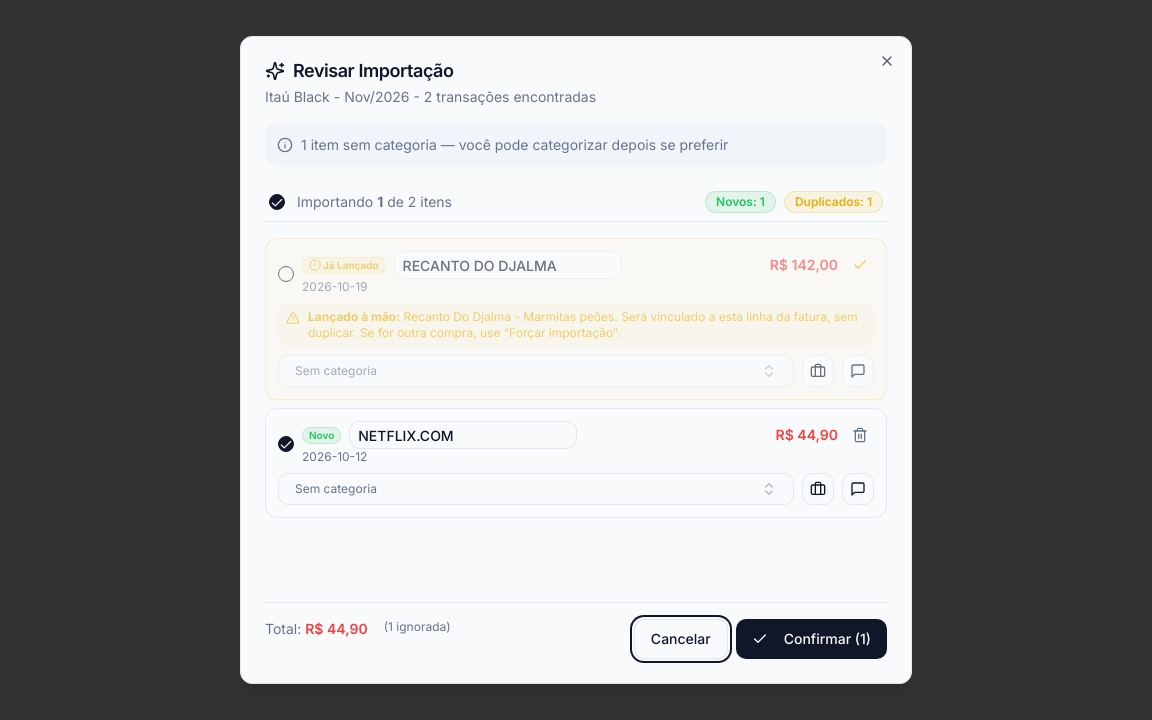
InvoiceReviewModal — lançamento feito à mão › restaurar depois de ignorar volta a ser lançado à mão, desmarcado — não 'Novo'
Expected: the element showing "RECANTO DO DJALMA" is shown, left=265, top=238, right=887, bottom=400
Click the checkbox next to "2026-10-19" at (286, 274), box left=278, top=266, right=294, bottom=282
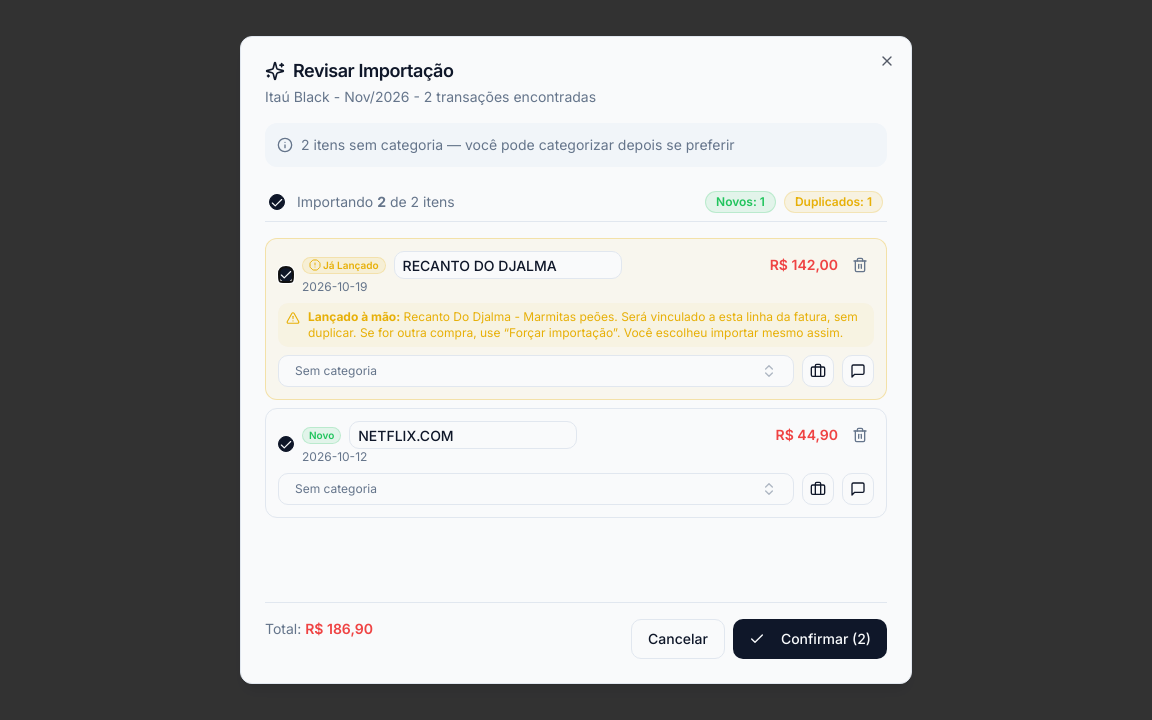
Click the button without text next to "142,00" at (860, 265), box left=846, top=251, right=874, bottom=279
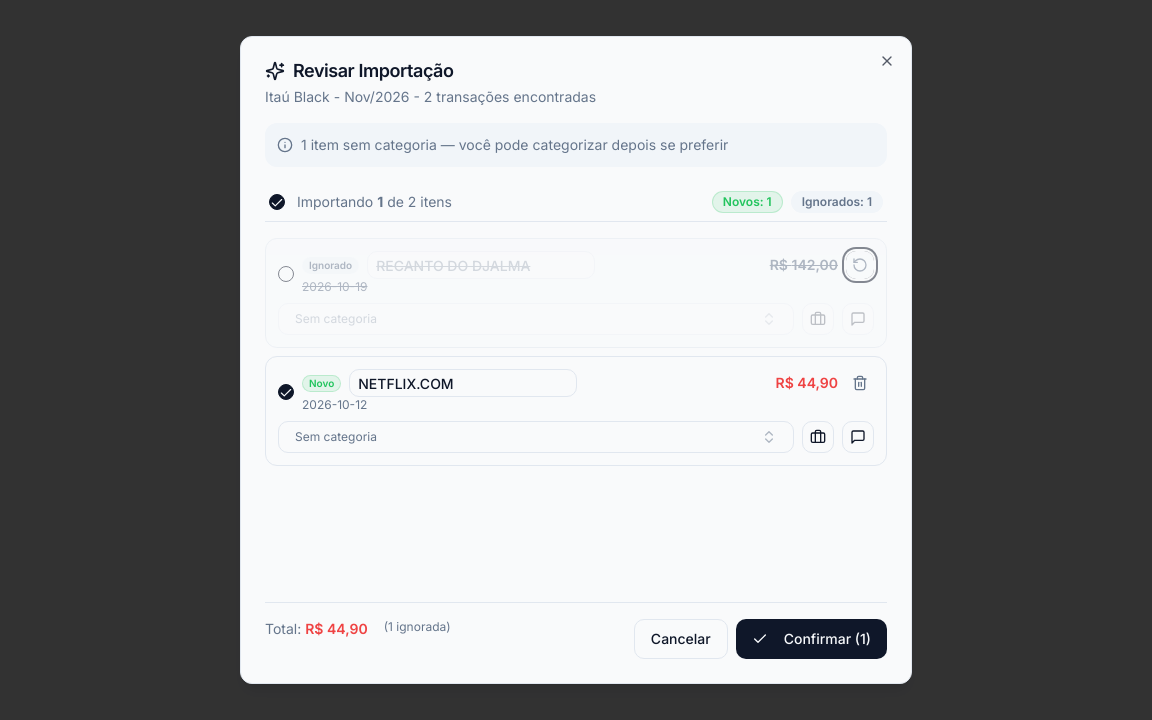
Click the button without text next to "142,00" at (860, 265), box left=846, top=251, right=874, bottom=279
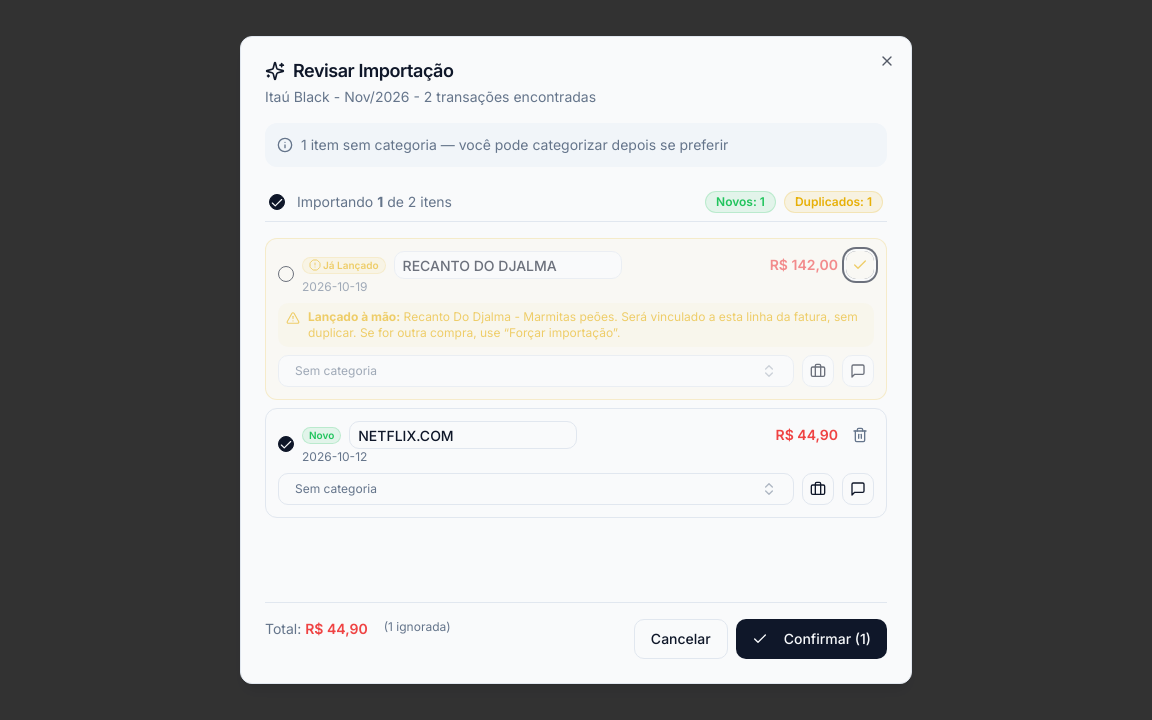
Result: the checkbox next to "2026-10-19" is not checked at left=278, top=266, right=294, bottom=282
Result: the text "Lançado à mão:" is shown at left=308, top=309, right=400, bottom=324
